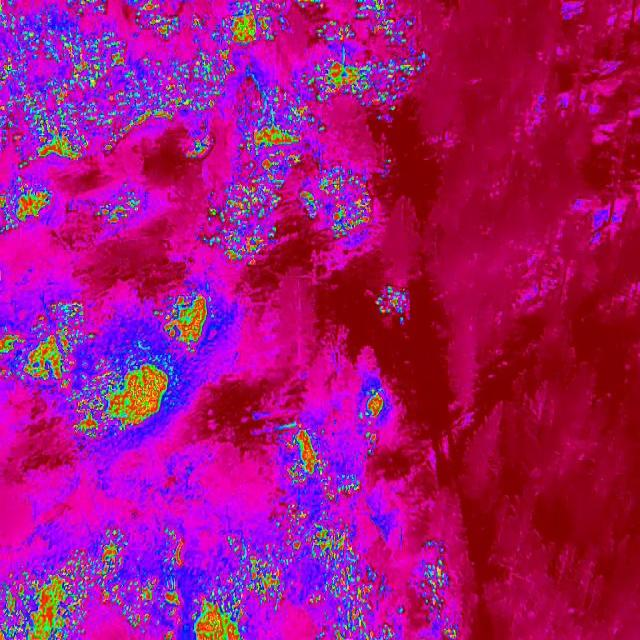fire: (0, 0, 428, 156), (0, 530, 394, 640), (0, 282, 241, 386), (204, 156, 374, 266), (274, 415, 362, 531), (64, 386, 194, 453), (417, 537, 461, 640), (0, 178, 60, 240), (98, 184, 142, 234), (372, 280, 412, 330), (356, 375, 386, 436)
